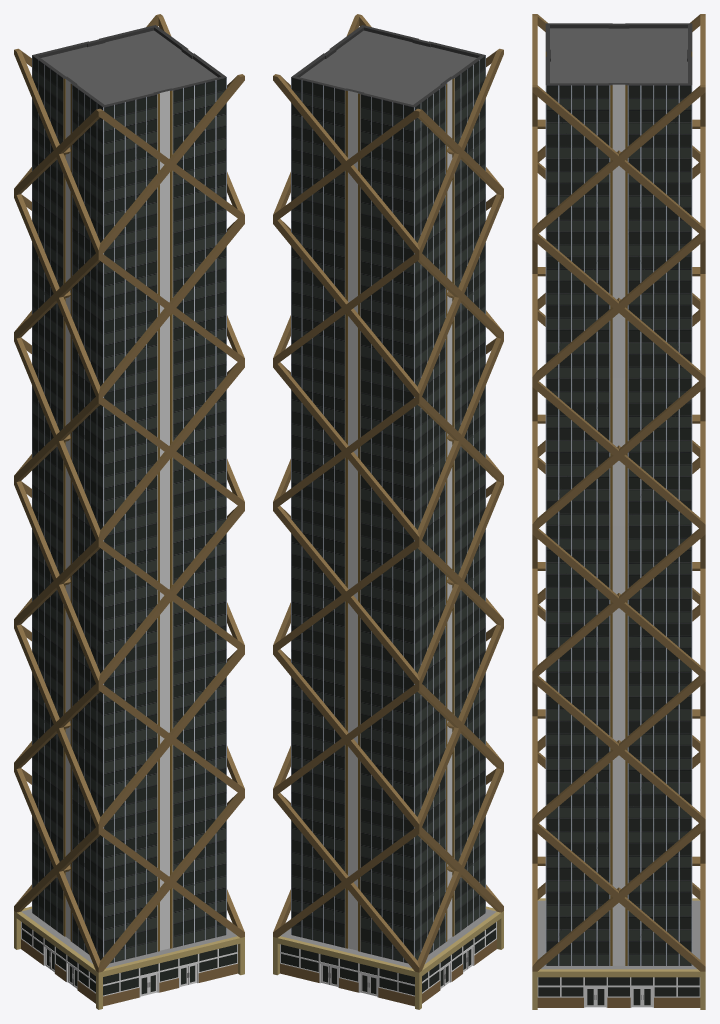
3 renders of one model, left to right at view 1: azimuth 30°, elevation 25°; view 2: azimuth 150°, elevation 25°; view 3: azimuth 270°, elevation 25°, orthographic. The views are drawn at different scales.
Parts seen in each view (by area): view 1: EC-11; view 2: EC-11; view 3: EC-11.
Part boxes in pixels (bbox=[...]): EC-11: bbox=[14, 14, 244, 1009]; EC-11: bbox=[273, 14, 503, 1009]; EC-11: bbox=[532, 14, 705, 1009].
Size of what is drawn, in the model's own units: 19.29 by 113 by 19.29.
